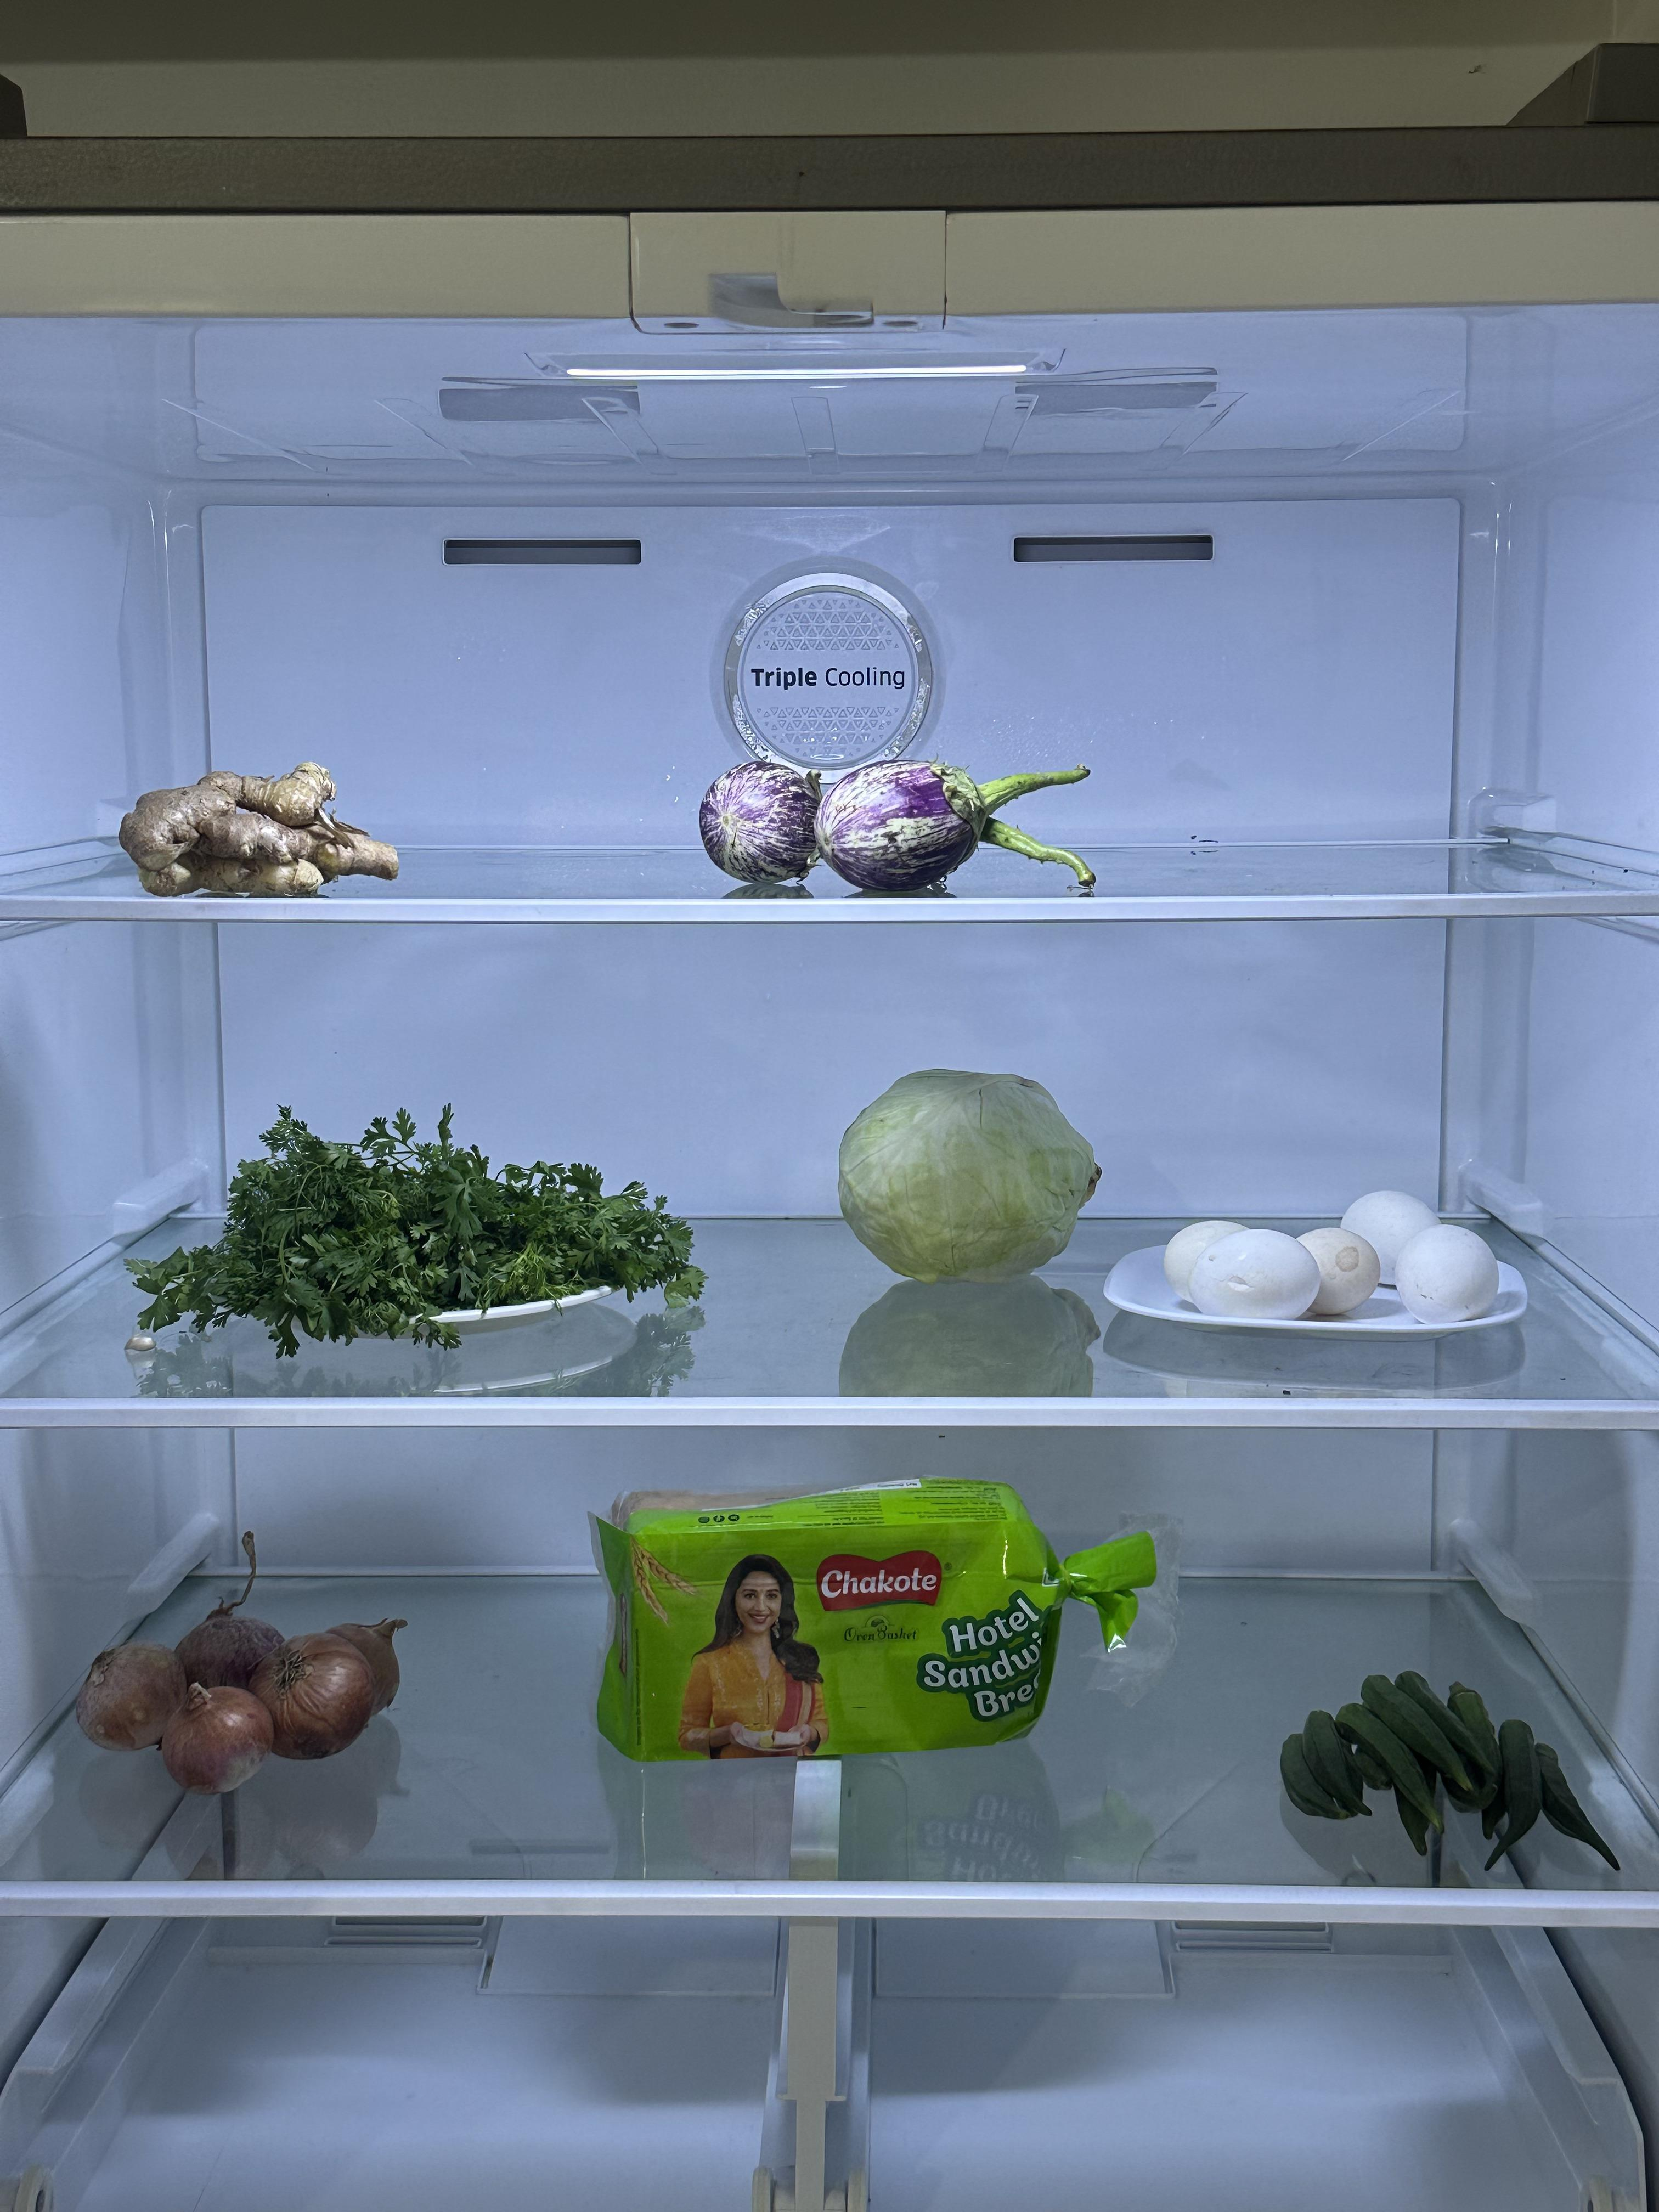bread: (582, 1487, 1105, 1771)
bringal: (671, 752, 1100, 899)
cabbage: (840, 1043, 1100, 1298)
coriander: (155, 1104, 701, 1341)
egg: (1148, 1177, 1525, 1338)
ginger: (99, 742, 406, 890)
okra: (1263, 1653, 1600, 1869)
onion: (78, 1569, 411, 1794)
